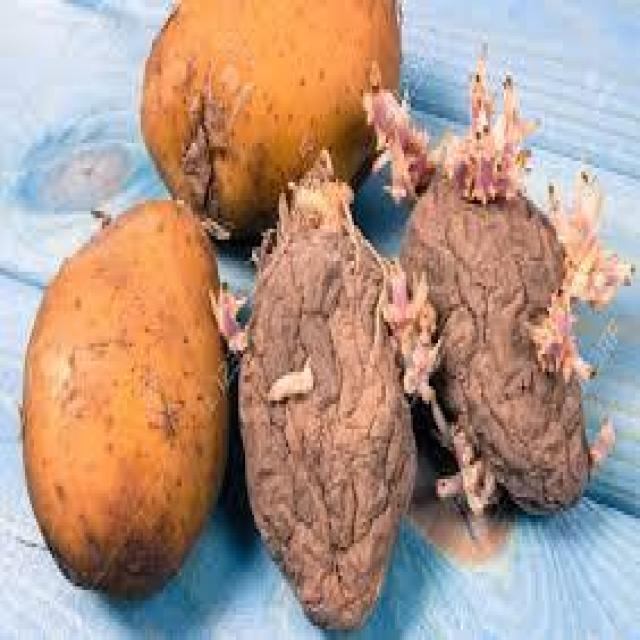potato: (18, 193, 234, 597)
